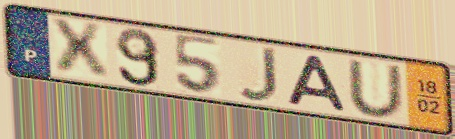5: (170, 31, 223, 98)
9: (114, 26, 163, 90)
A: (285, 53, 351, 114)
J: (235, 45, 280, 104)
U: (344, 58, 407, 121)
X: (46, 17, 113, 82)
